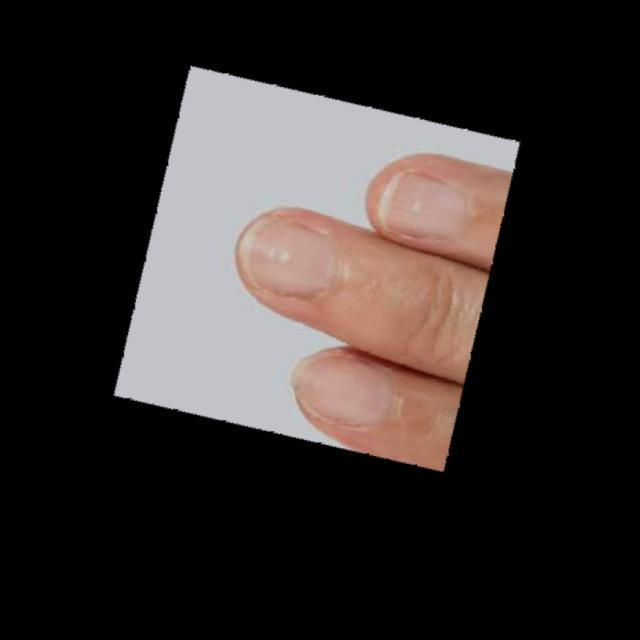Nail: (236, 215, 333, 294), (291, 353, 389, 427), (379, 168, 464, 236)
